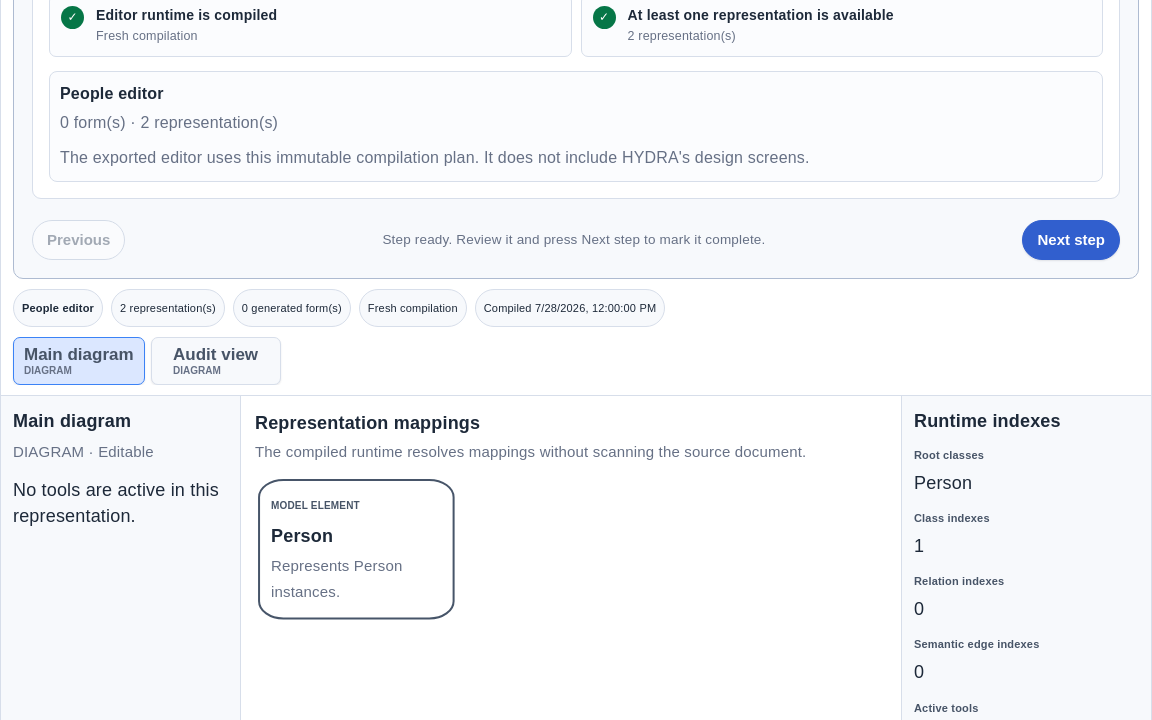
Scenario: compiled editor runtime preview › switches between compiled representations
(page scrolled)
Click the button "Audit view DIAGRAM" at (216, 361), box 151,337 -> 281,385
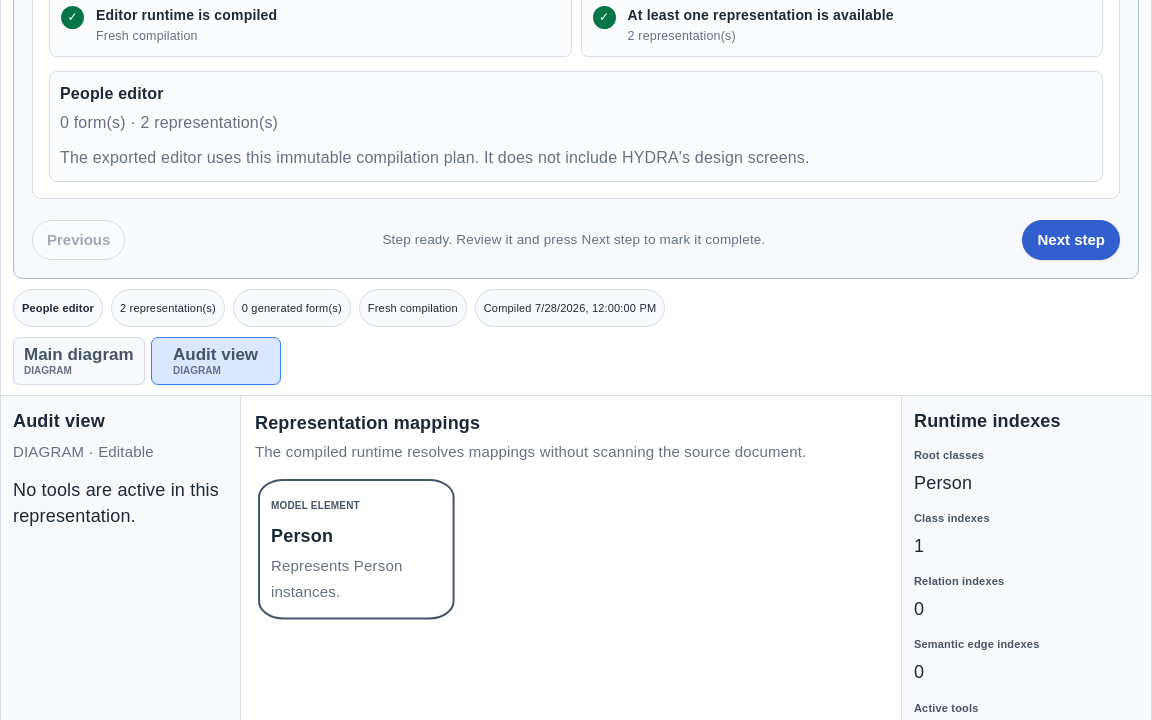
Expected: the text "Audit view" is shown, 13,411 -> 105,431
